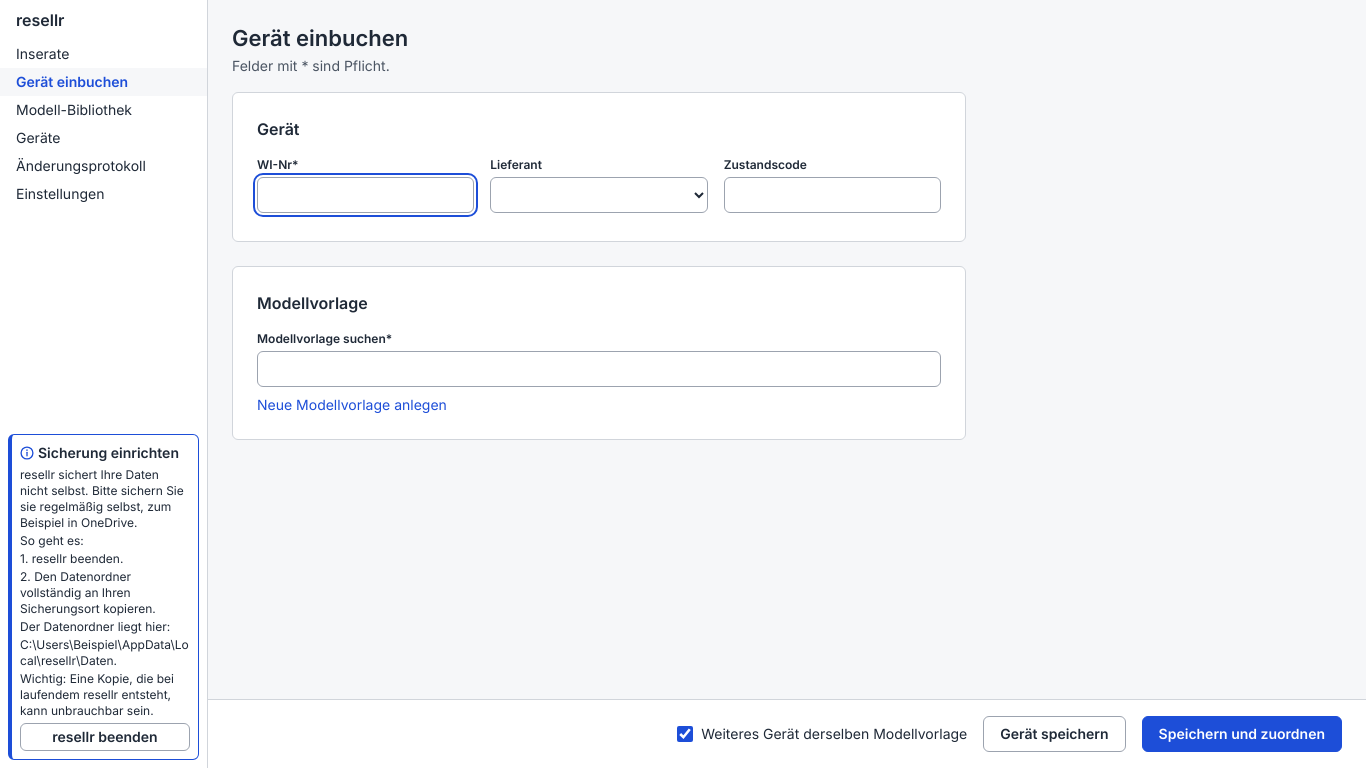
Test: UI-003 prefill and review flags (CU-132, REQ-013; Technical Specification 2.5) › UI-003.loading DER-55-01 shows "Lade Gerätewerte …" in the values card while the prefill loads
Expected: the form named "Gerät einbuchen" is shown, [232,92,966,440]
Type "626198" into the field labelled "WI-Nr*".
click(366, 195); type("626198")  # box [257,177,474,213]
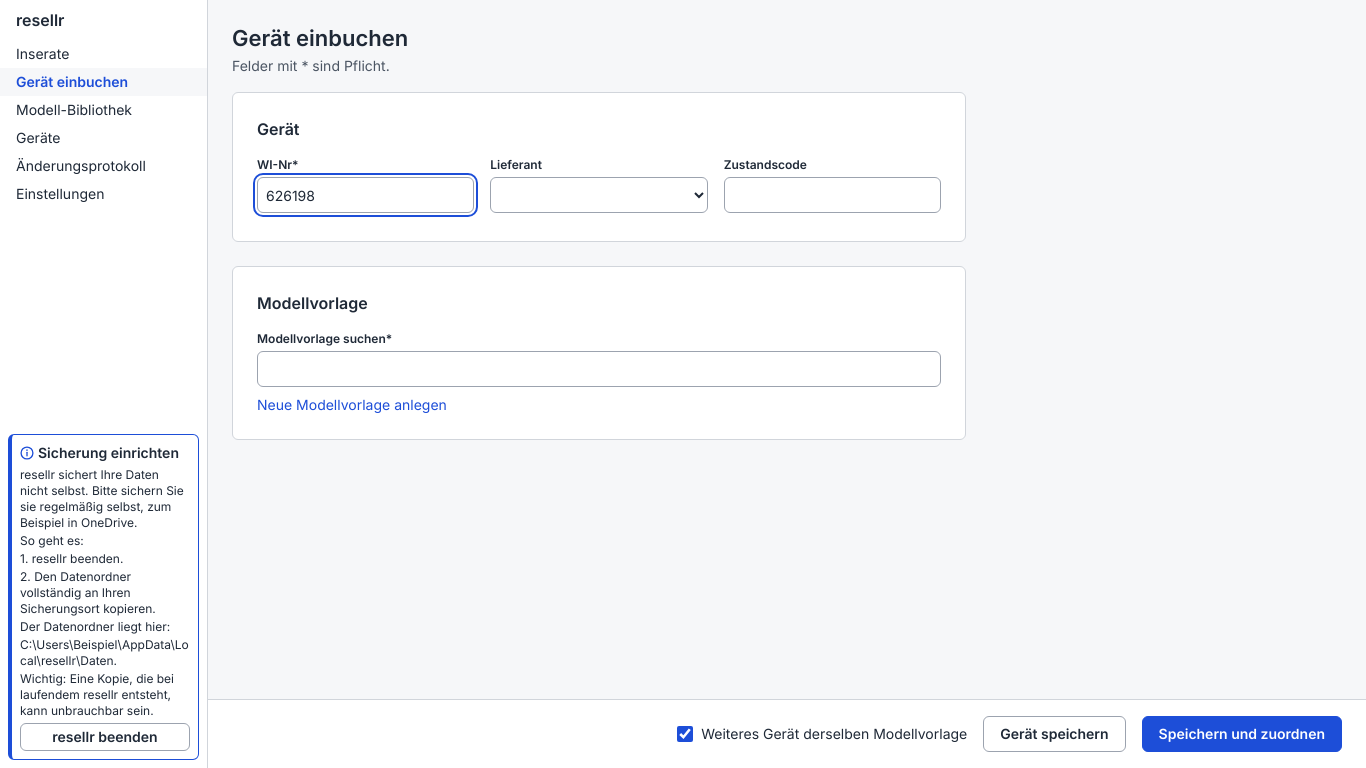
Type "T14" into the search field labelled "Modellvorlage suchen*".
click(599, 369); type("T14")  # box [257,351,941,387]
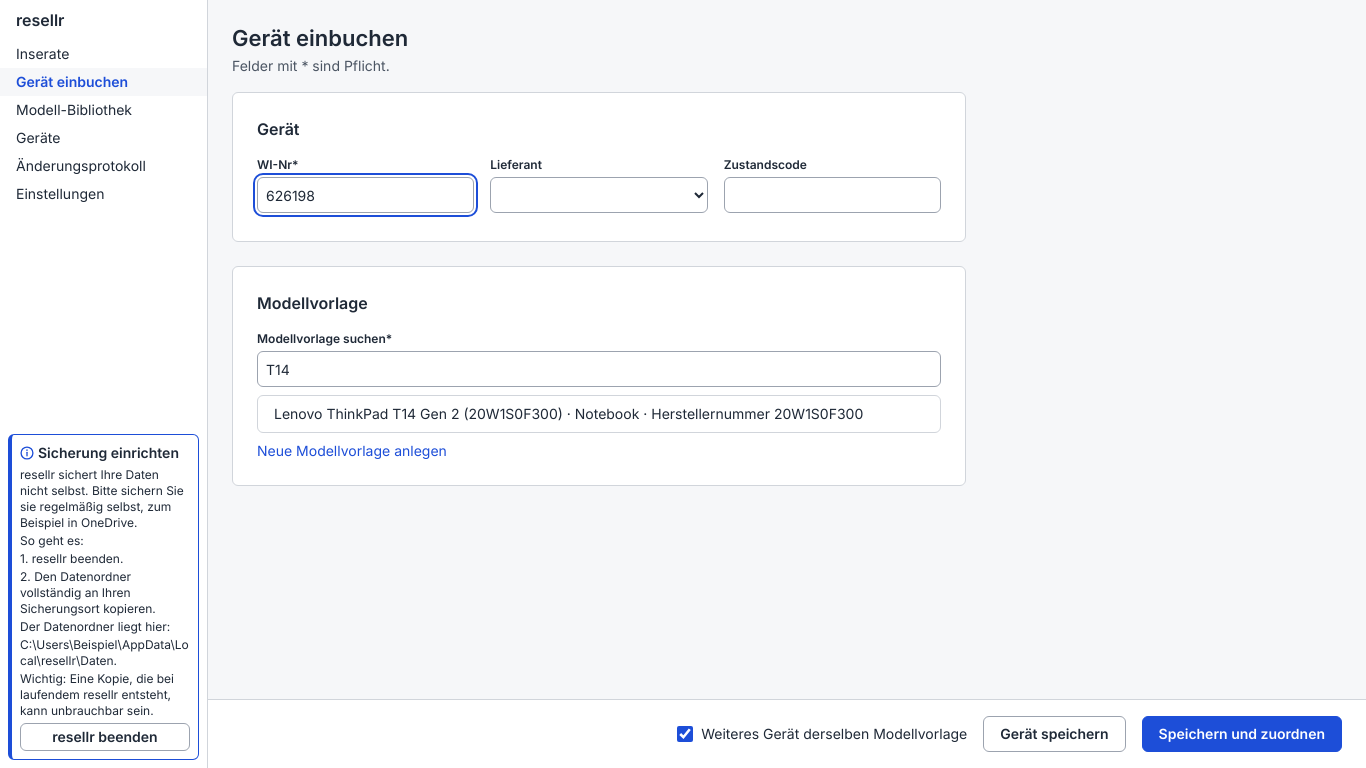
Click the button "Lenovo ThinkPad T14 Gen 2 (20W1S0F300) · Notebook · Herstellernummer 20W1S0F300".
click(599, 414)  # box [258,396,940,432]
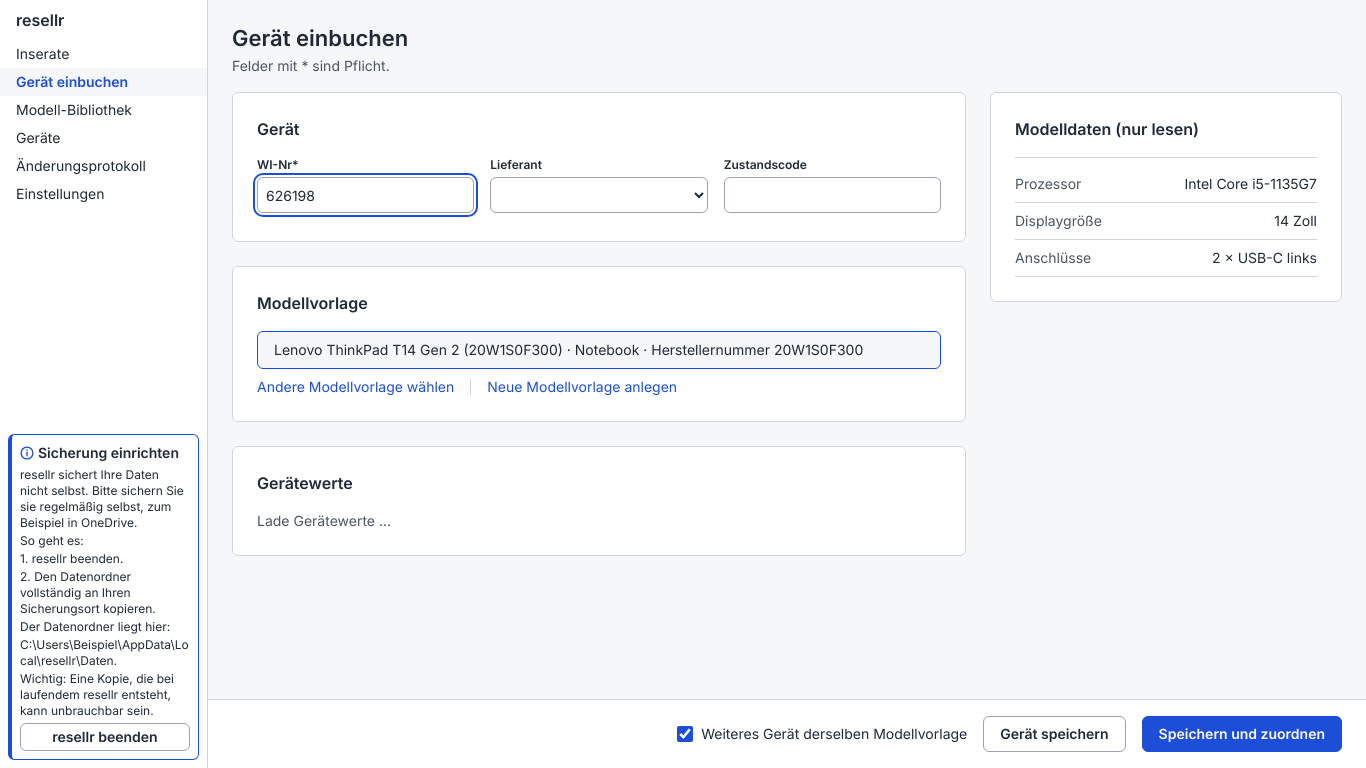
Expected: the button "Speichern und zuordnen" is enabled, [1142,716,1342,752]
Now the message reads "Lade Gerätewerte …", box [257,512,391,529]
